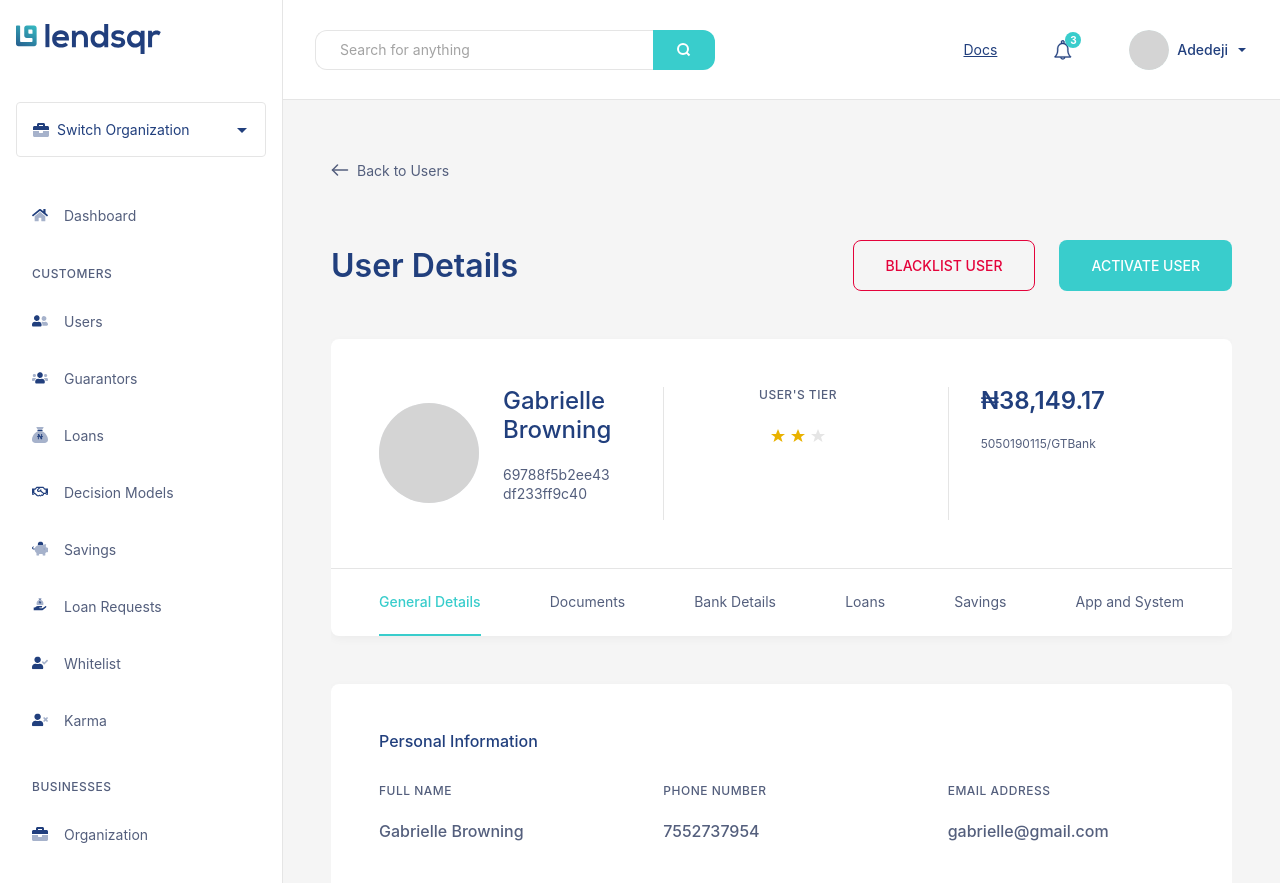
Test: UserDetails Page › should switch tabs correctly
The image size is (1280, 883).
Expected: the heading "Gabrielle Browning" is shown, [503, 387, 615, 445]
Expected: the heading "Personal Information" is shown, [379, 731, 538, 751]
# Click on Documents tab
Click the tab "Documents". click: (587, 602)
box: [550, 569, 625, 636]
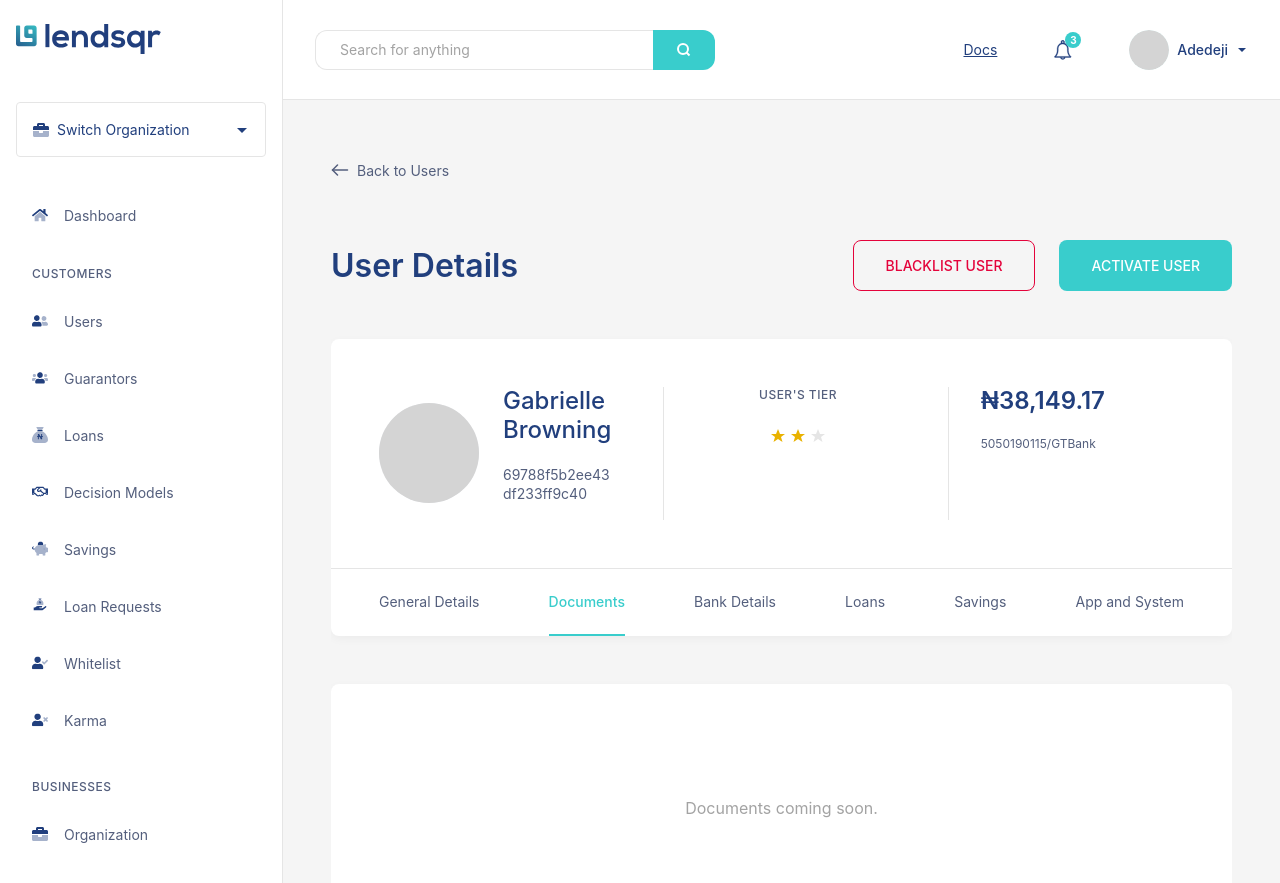
Expected: the text "Documents coming soon." is shown, [685, 798, 878, 818]
# Click on Bank Details tab
Click the tab "Bank Details". click: (735, 602)
box: [694, 569, 776, 636]
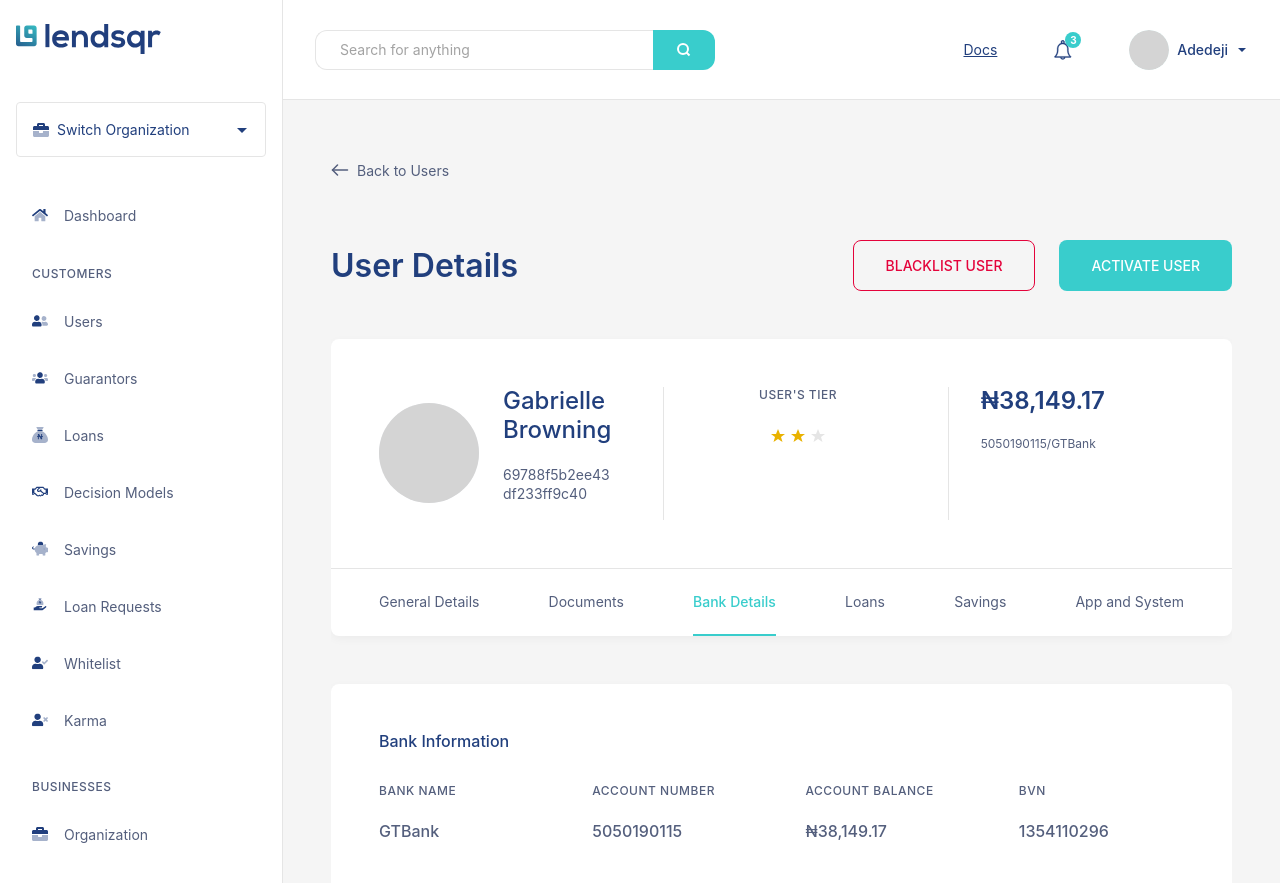
Expected: the heading "Bank Information" is shown, [379, 731, 509, 751]
Expected: the text "GTBank" is shown, [379, 821, 439, 841]
